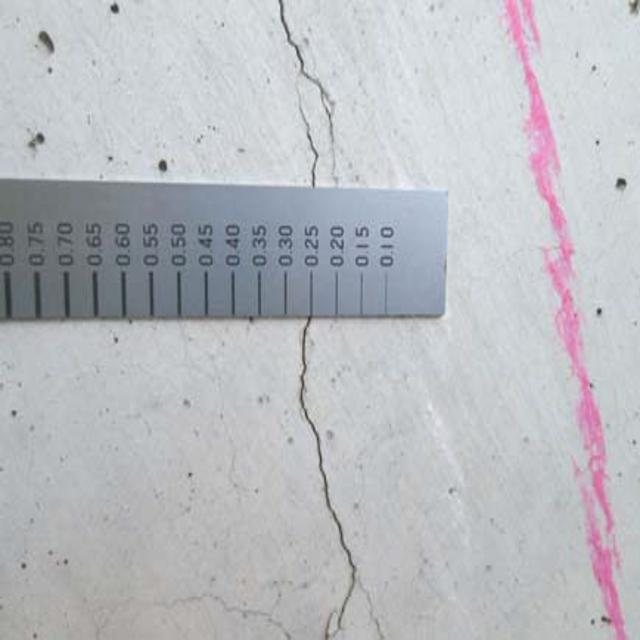crack: (276, 323, 384, 633), (257, 6, 347, 190)
